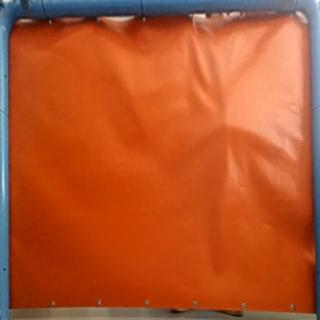Hit-hRxx: (222, 118, 236, 131)
